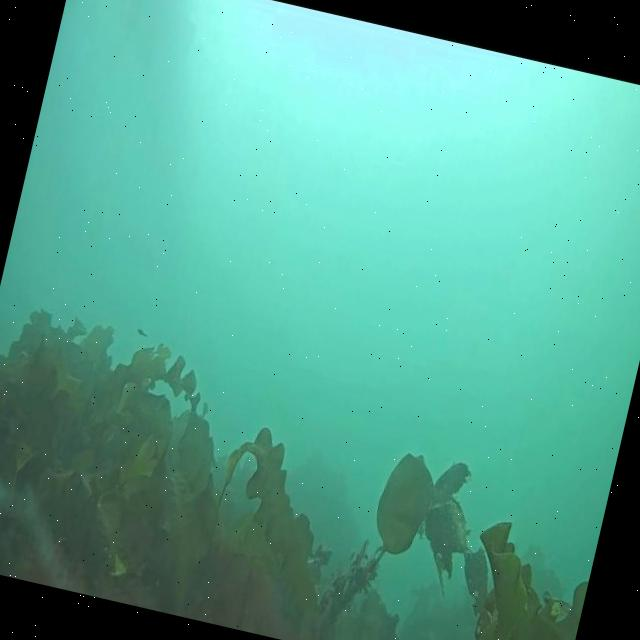fish: (134, 324, 150, 341)
